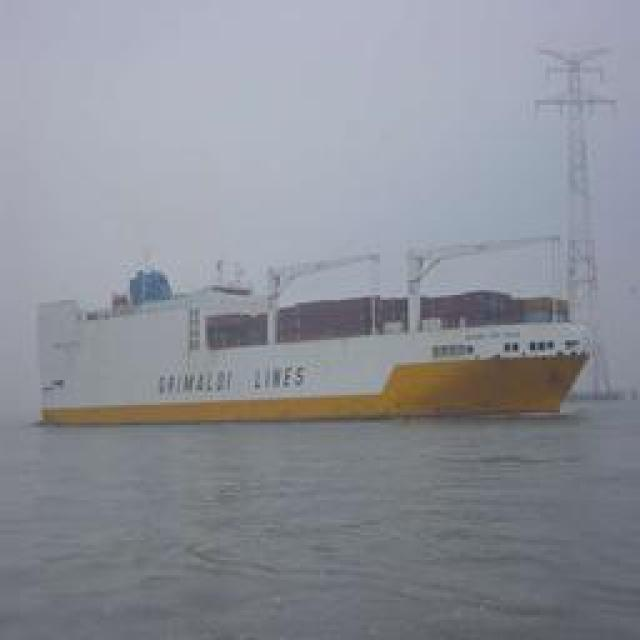CIV_Ship: (39, 254, 599, 426)
